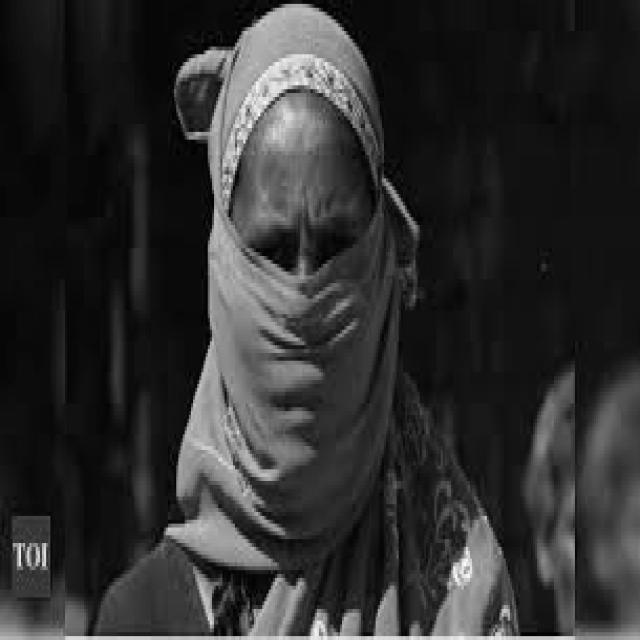without_mask: (166, 4, 420, 570)
